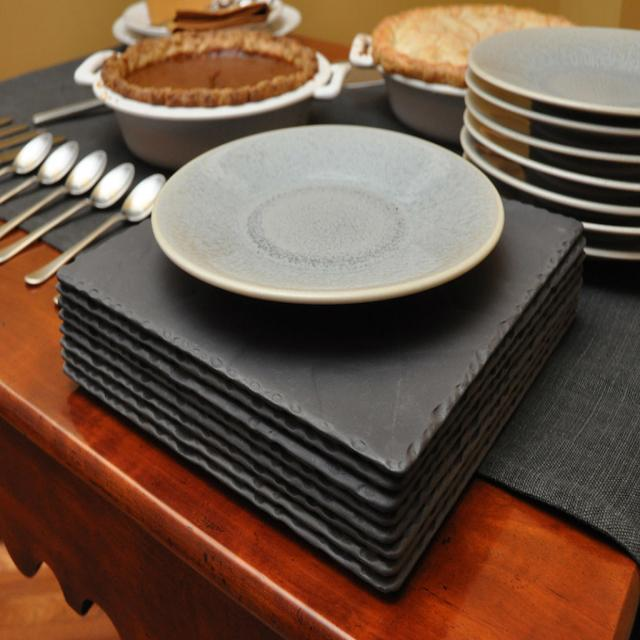non-organic waste: (141, 119, 505, 335)
